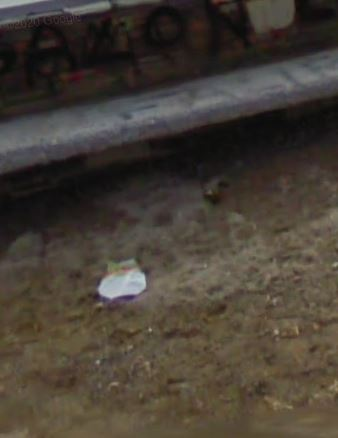trash: (91, 250, 152, 312)
